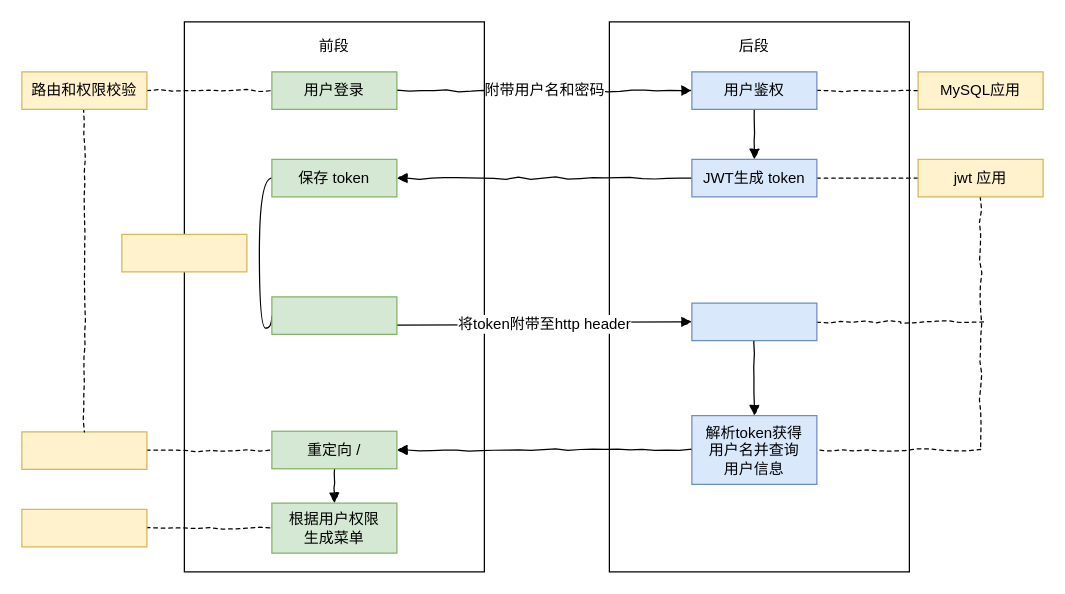
This 1065x594 diagram has some shape labels left out. Each missing label, with the centre of its shape:
"axios 拦截器" goes at point 184,252.
"token 校验" goes at point 754,321.
"侧边栏" goes at point 84,527.
"请求用户信息" goes at point 334,315.
"重定向" goes at point 84,450.
